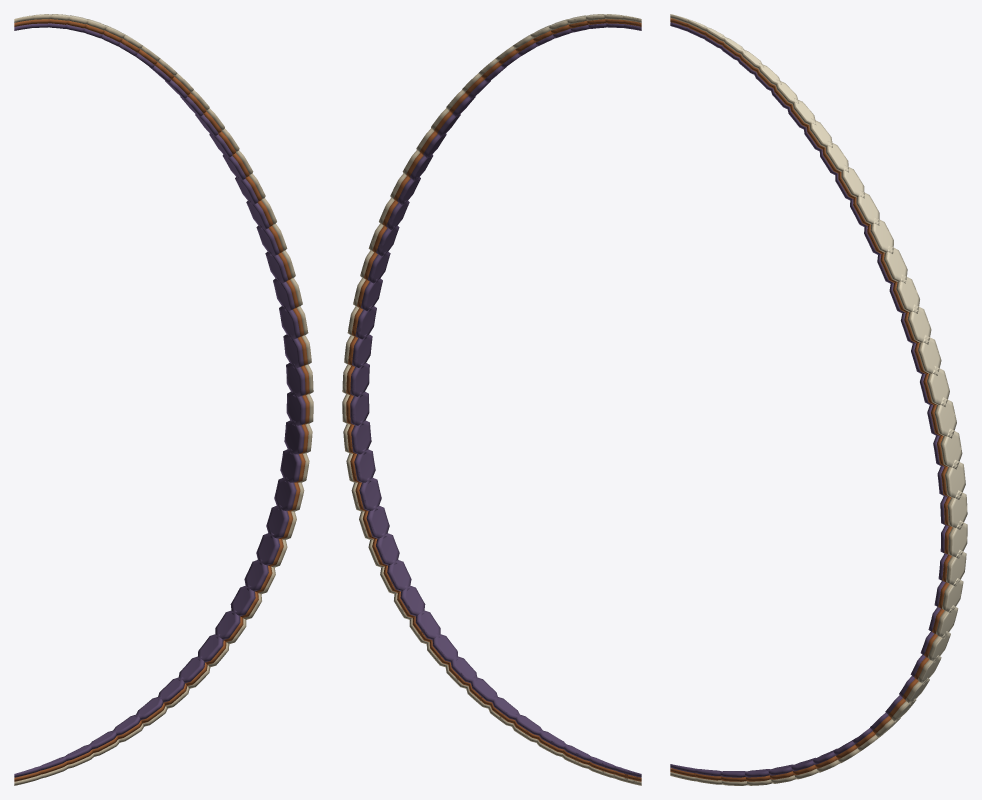
Rendered from VesperExpansionV3.fbx.
The picture shows the model from 3 angles, left to right: view 1: azimuth 30°, elevation 25°; view 2: azimuth 150°, elevation 25°; view 3: azimuth 330°, elevation 25°; orthographic projection.
Parts seen in each view (by area): view 1: L3_R13, L3_R14, L3_R12, L3_R16, L3_R15, L3_R11, L3_R17; view 2: L3_R14, L3_R13, L3_R15, L3_R12, L3_R16, L3_R11, L3_R17, L3_R18; view 3: L1_R21, L1_R23, L1_R22, L1_R24, L1_R20, L1_R25, L1_R19, L1_R26, L1_R18, L1_R17, L1_R27.
Boxes of the visible parts, x1,y1,x2,y2 form: L3_R13: [266, 505, 289, 538]; L3_R14: [274, 477, 296, 511]; L3_R12: [256, 532, 279, 565]; L3_R16: [284, 420, 304, 454]; L3_R15: [280, 448, 301, 483]; L3_R11: [244, 559, 268, 591]; L3_R17: [286, 391, 305, 426]; L3_R14: [359, 477, 381, 511]; L3_R13: [366, 505, 389, 538]; L3_R15: [354, 448, 375, 483]; L3_R12: [376, 532, 399, 565]; L3_R16: [351, 419, 371, 454]; L3_R11: [387, 560, 411, 591]; L3_R17: [350, 391, 369, 426]; L3_R18: [350, 362, 369, 397]; L1_R21: [934, 397, 956, 438]; L1_R23: [918, 335, 941, 375]; L1_R22: [927, 366, 949, 406]; L1_R24: [907, 304, 931, 344]; L1_R20: [940, 428, 962, 469]; L1_R25: [896, 274, 919, 313]; L1_R19: [945, 460, 965, 499]; L1_R26: [883, 245, 907, 283]; L1_R18: [947, 490, 967, 529]; L1_R17: [948, 520, 967, 558]; L1_R27: [870, 217, 893, 253].
Bounding box in the file's own units: 4144 × 10404 × 381.
